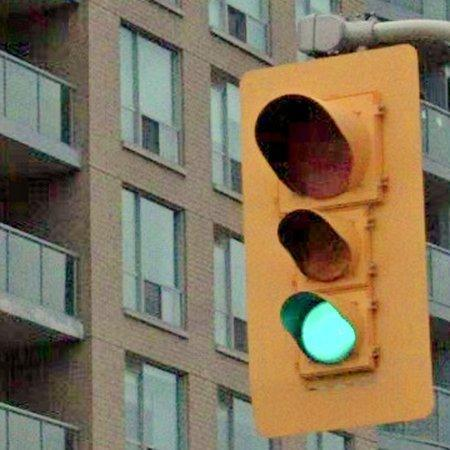traffic lights: (241, 42, 435, 440)
